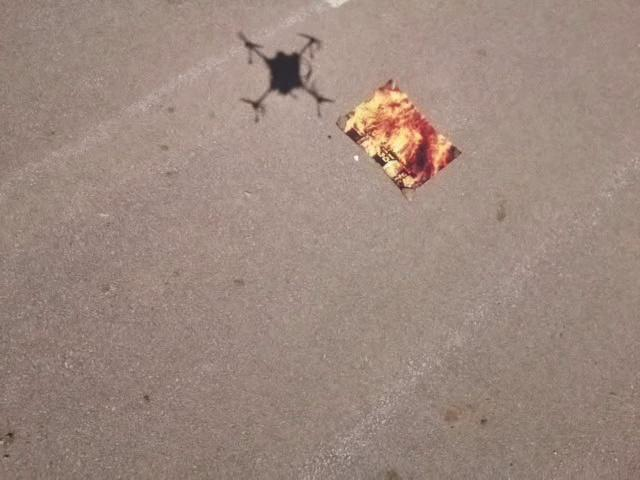fire-poster: (336, 76, 463, 201)
